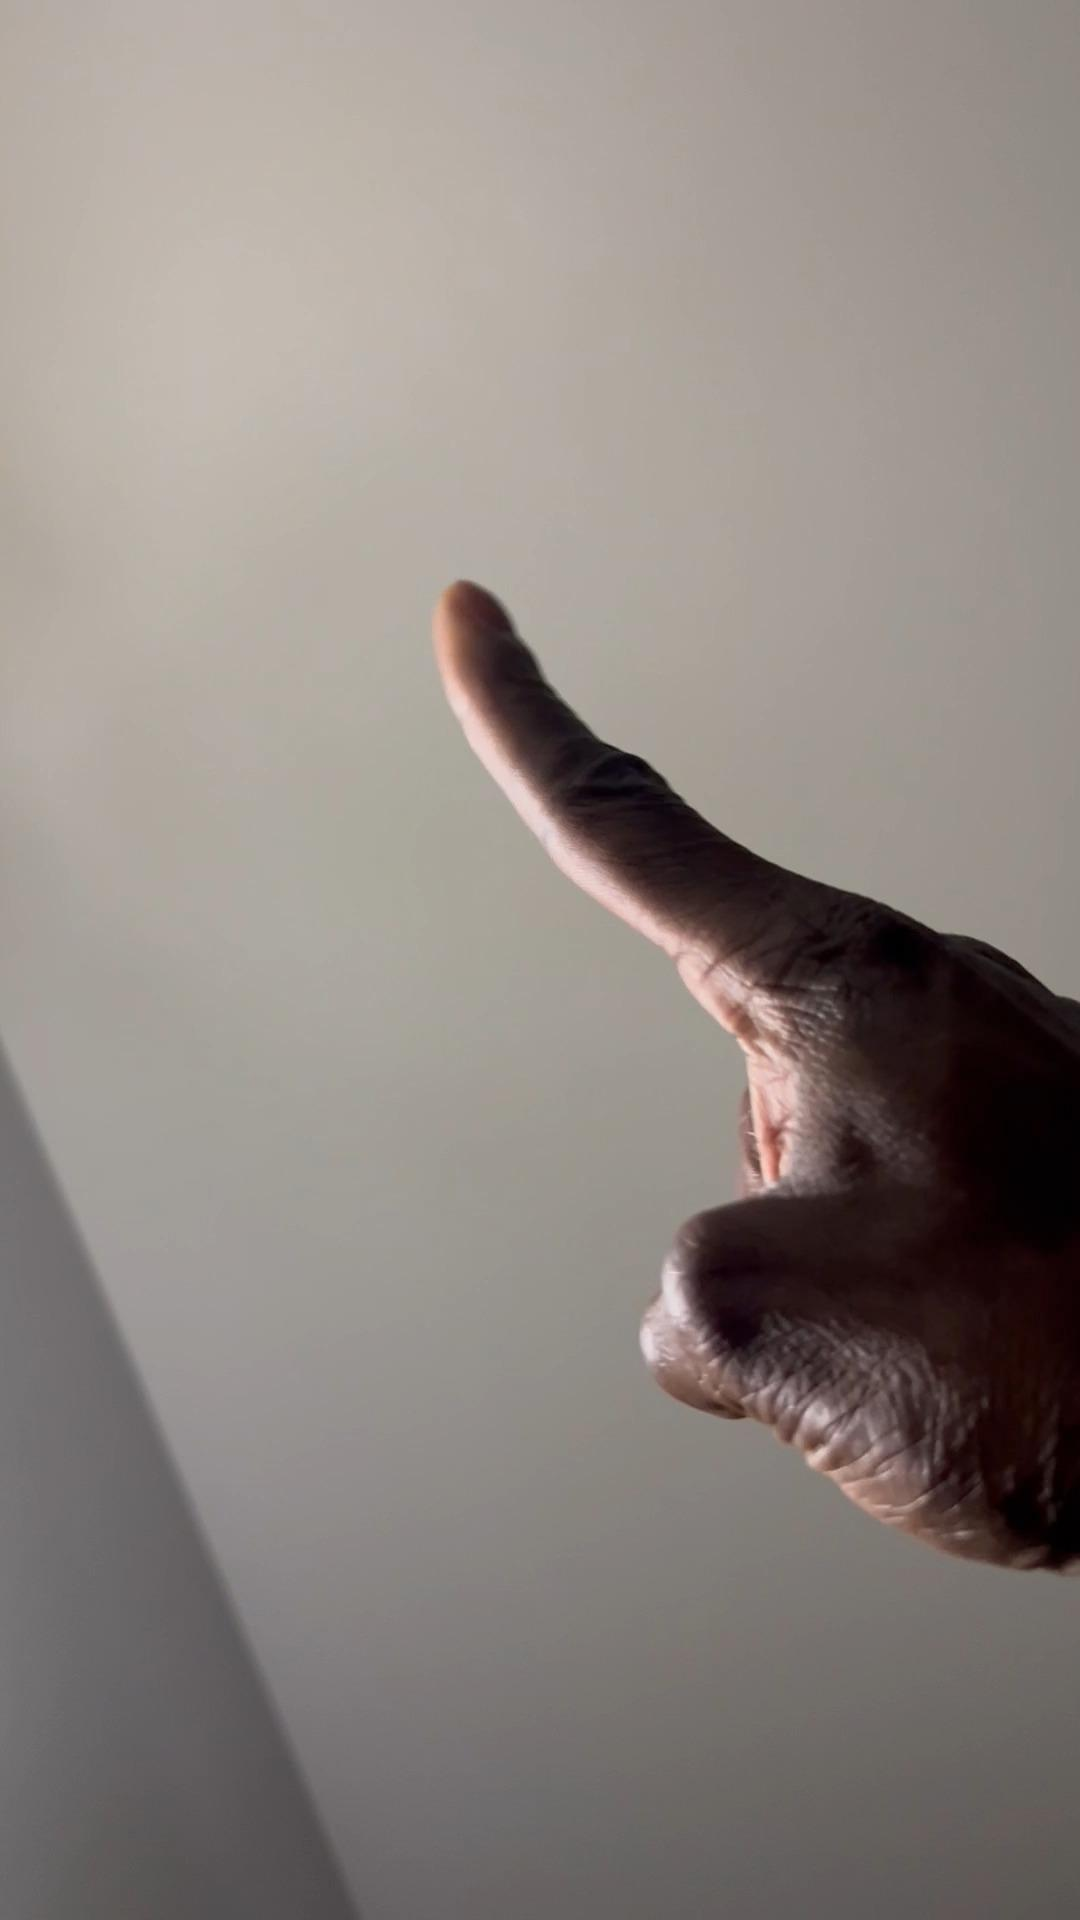Scissors: (440, 577, 1080, 1582)
